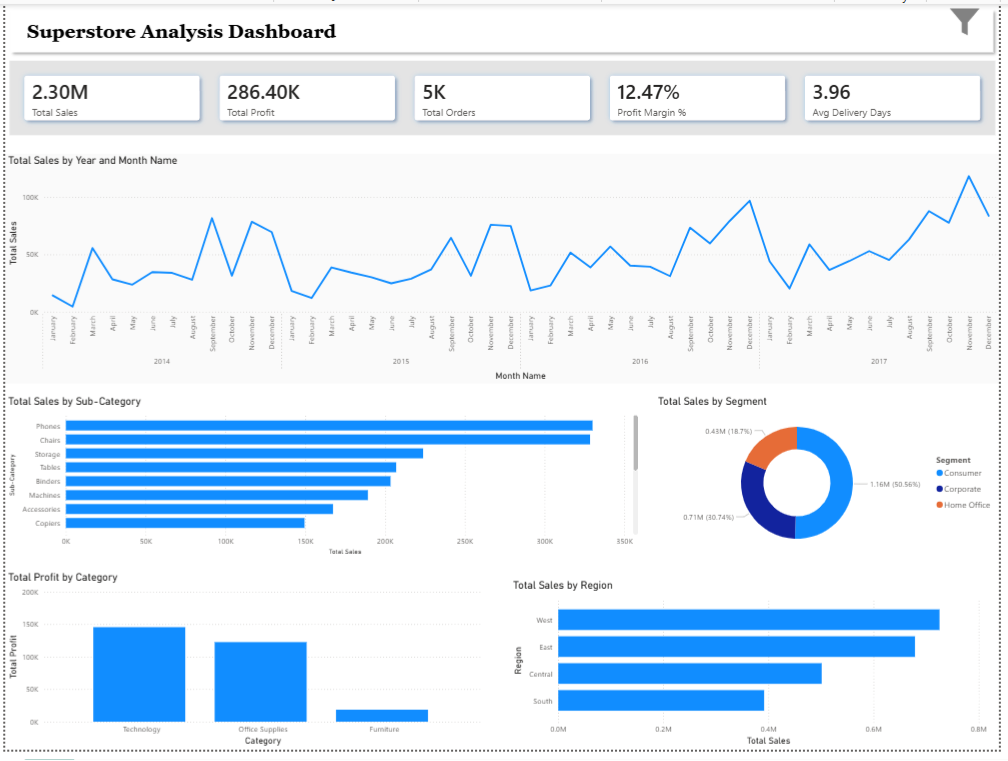

The dashboard page shown, as its layout file describes it:
{"tool":"powerbi","page":{"name":"Page 1","canvas":[1600,1200],"ordinal":0},"visuals":[{"type":"image","title":"filter","box":[1487.4,0,111.9,57.8],"z":0,"group":"g1"},{"type":"lineChart","fields":{"Y":["cleaned_superstore.Total Sales"],"Category":["cleaned_superstore.Year","cleaned_superstore.Month Name"]},"box":[0,241.3,1600.5,370],"z":0},{"type":"clusteredBarChart","fields":{"Category":["cleaned_superstore.Sub-Category"],"Y":["cleaned_superstore.Total Sales"]},"box":[0,630.3,1023.7,263.7],"z":1000},{"type":"donutChart","fields":{"Category":["cleaned_superstore.Segment"],"Y":["cleaned_superstore.Total Sales"]},"box":[1046,630.3,554.3,263.7],"z":2000},{"type":"clusteredColumnChart","fields":{"Category":["cleaned_superstore.Category"],"Y":["cleaned_superstore.Total Profit"]},"box":[0,913.4,771.8,286.1],"z":3000},{"type":"clusteredBarChart","fields":{"Category":["cleaned_superstore.Region"],"Y":["cleaned_superstore.Total Sales"]},"box":[812.1,925.3,773.3,274.2],"z":4000},{"type":"cardVisual","fields":{"Data":["cleaned_superstore.Total Sales","cleaned_superstore.Total Profit","cleaned_superstore.Total Orders","cleaned_superstore.Profit Margin %","cleaned_superstore.Avg Delivery Days"]},"box":[2,86.5,1598.5,130.7],"z":5000},{"type":"shape","box":[0,0,1598.5,86.5],"z":6000},{"type":"group","id":"g1","title":"Select Panel","box":[970.9,0,628.4,482.9],"z":7000}]}

Visuals, with their boxes in screenshot pixels (x1, y1, x2, y2), scaled from the page's 1600x1200 canvas onto the 1008x761 screenshot:
"filter" image: rect(937, 0, 1007, 37)
lineChart - cleaned_superstore.Total Sales x cleaned_superstore.Year: rect(0, 153, 1007, 388)
clusteredBarChart - cleaned_superstore.Sub-Category x cleaned_superstore.Total Sales: rect(0, 400, 645, 567)
donutChart - cleaned_superstore.Segment x cleaned_superstore.Total Sales: rect(659, 400, 1007, 567)
clusteredColumnChart - cleaned_superstore.Category x cleaned_superstore.Total Profit: rect(0, 579, 486, 760)
clusteredBarChart - cleaned_superstore.Region x cleaned_superstore.Total Sales: rect(512, 587, 999, 760)
cardVisual - cleaned_superstore.Total Sales x cleaned_superstore.Total Profit: rect(1, 55, 1007, 138)
shape: rect(0, 0, 1007, 55)
"Select Panel" group: rect(612, 0, 1007, 306)
